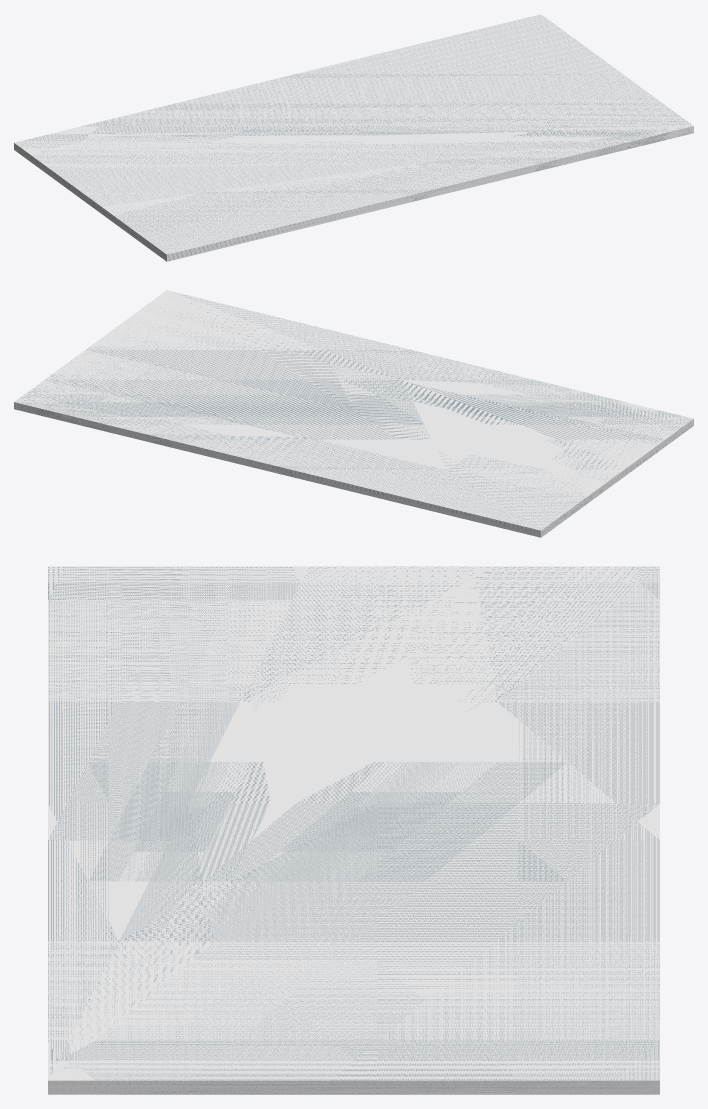
The model's file is roof.fbx.
3 renders of one model, top to bottom at view 1: azimuth 30°, elevation 25°; view 2: azimuth 150°, elevation 25°; view 3: azimuth 270°, elevation 25°, orthographic. The views are drawn at different scales.
Visible parts, largest first — view 1: Group1; view 2: Group1; view 3: Group1.
Boxes of the visible parts, bbox=[...] form: Group1: bbox=[14, 14, 693, 261]; Group1: bbox=[14, 290, 693, 537]; Group1: bbox=[48, 566, 659, 1094].
Size of the model in its own units: 277275 by 3581 by 139360.
